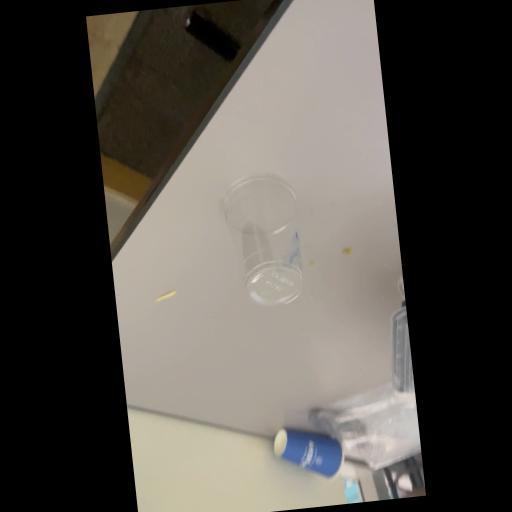lp_paper_cup: (270, 420, 346, 490)
lp_plastic_cup: (226, 168, 310, 312)
